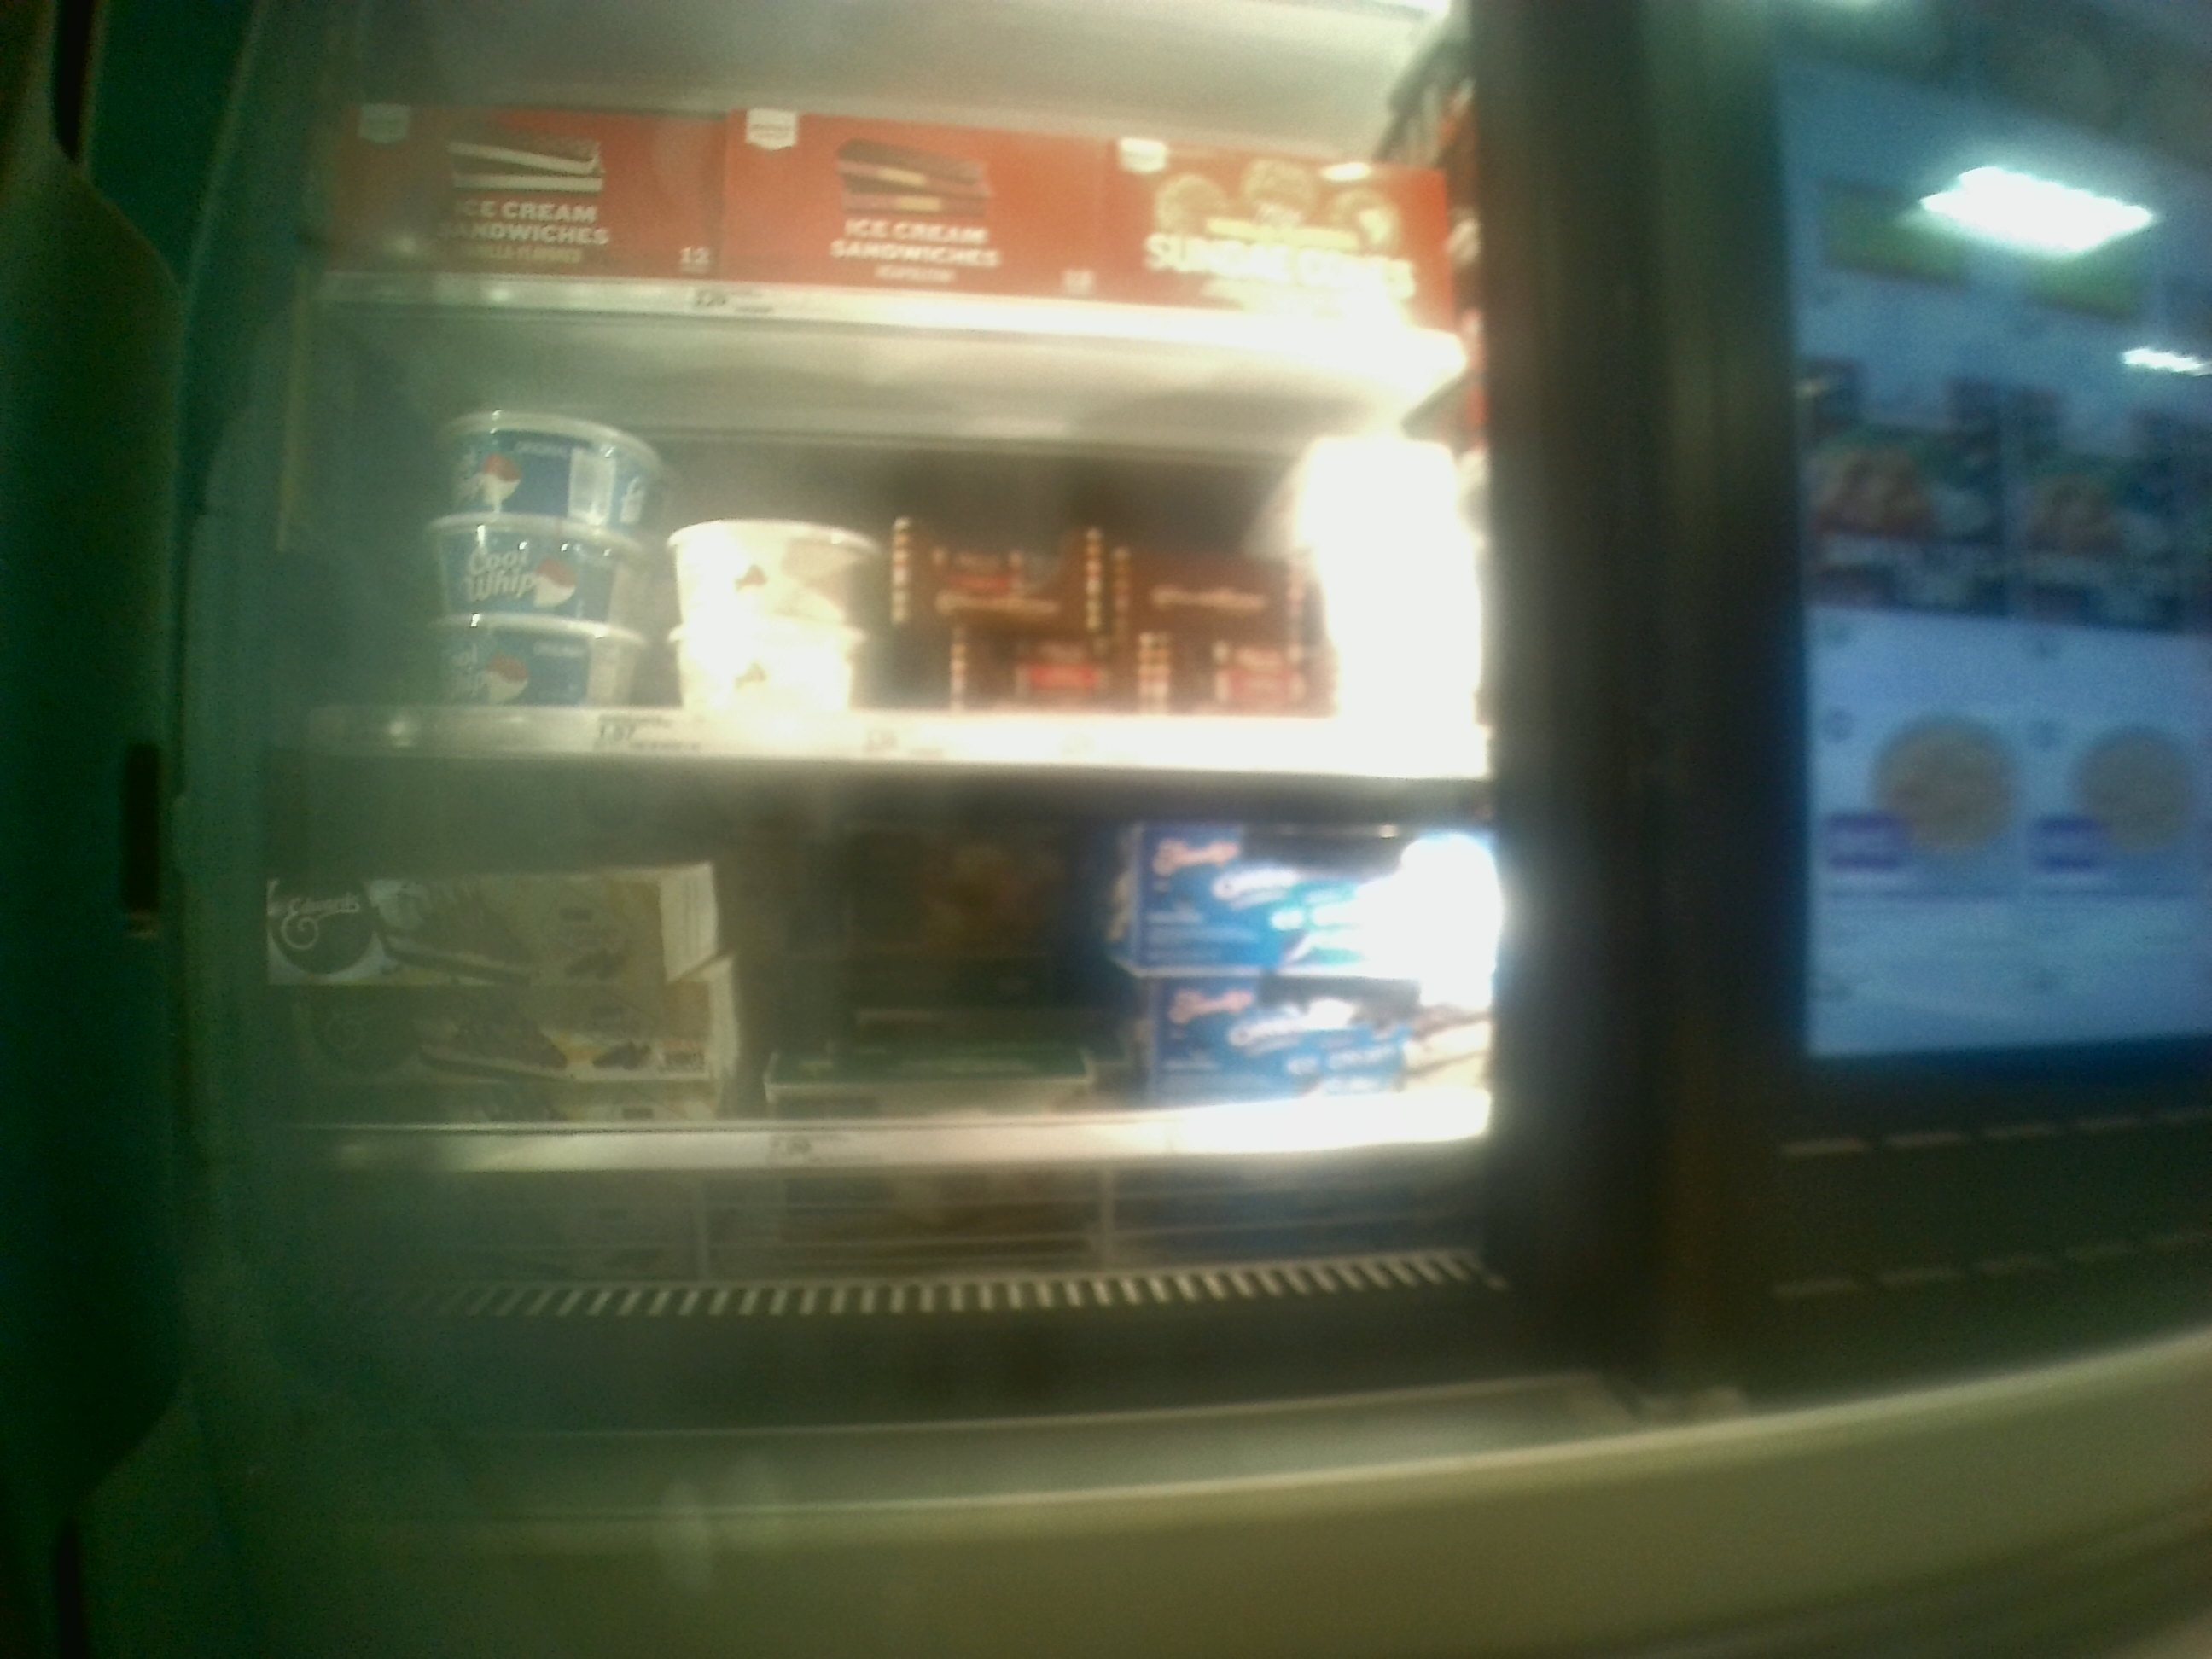shelf: (265, 756, 1493, 1236), (275, 300, 1503, 758)
